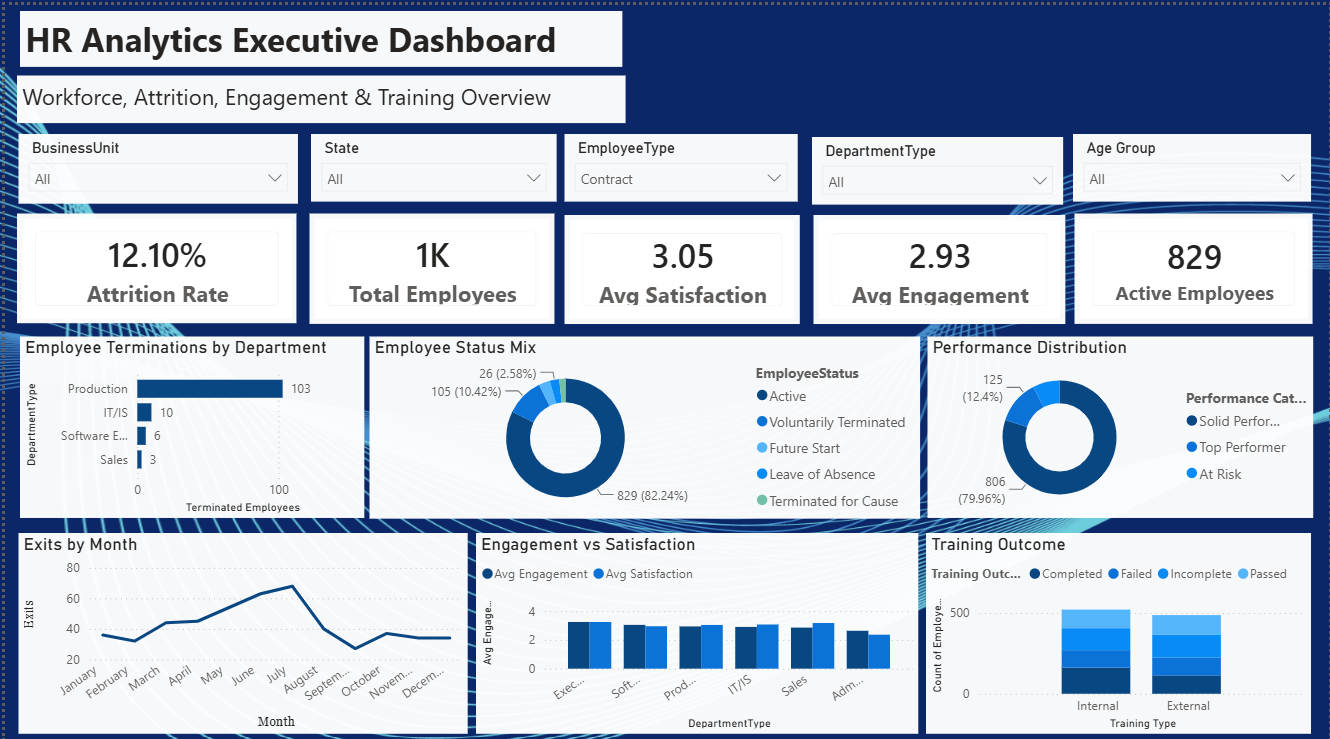

The page's visual inventory and layout, read from the dashboard file:
{"tool":"powerbi","page":{"name":"Page 1","canvas":[1280,720],"ordinal":0},"visuals":[{"type":"cardVisual","fields":{"Data":["HR_Cleaned.Attrition Rate"]},"box":[12,202,270,106],"z":0},{"type":"cardVisual","fields":{"Data":["HR_Cleaned.Total Employees"]},"box":[294.2,201.7,236.7,106.7],"z":1000},{"type":"cardVisual","fields":{"Data":["HR_Cleaned.Avg Satisfaction"]},"box":[540,202.5,227.5,105],"z":2000},{"type":"cardVisual","fields":{"Data":["HR_Cleaned.Avg Engagement"]},"box":[780.8,202.5,243.3,105],"z":3000},{"type":"cardVisual","fields":{"Data":["HR_Cleaned.Active Employees"]},"box":[1033.3,201.7,230,106.7],"z":4000},{"type":"textbox","box":[14,6,582,54],"z":5000},{"type":"textbox","box":[12,68,588,46],"z":6000},{"type":"clusteredBarChart","title":"Employee Terminations by Department","fields":{"Category":["HR_Cleaned.DepartmentType"],"Y":["HR_Cleaned.Terminated Employees"]},"box":[13.8,320.8,332.5,175],"z":7000},{"type":"donutChart","title":"Employee Status Mix","fields":{"Category":["HR_Cleaned.EmployeeStatus"],"Y":["CountNonNull(HR_Cleaned.Employee ID)"]},"box":[352,320,532,176],"z":8000},{"type":"donutChart","title":"Performance Distribution","fields":{"Category":["HR_Cleaned.Performance Category"],"Y":["CountNonNull(HR_Cleaned.Employee ID)"]},"box":[891.3,320.8,372.5,175],"z":9000},{"type":"lineChart","fields":{"Category":["HR_Cleaned.ExitDate.Variation.Date Hierarchy.Year","HR_Cleaned.ExitDate.Variation.Date Hierarchy.Quarter","HR_Cleaned.ExitDate.Variation.Date Hierarchy.Month","HR_Cleaned.ExitDate.Variation.Date Hierarchy.Day"],"Y":["HR_Cleaned.Exits"]},"box":[12.5,510,433.8,193.8],"z":10000},{"type":"clusteredColumnChart","title":"Engagement vs Satisfaction","fields":{"Category":["HR_Cleaned.DepartmentType"],"Y":["HR_Cleaned.Avg Engagement","HR_Cleaned.Avg Satisfaction"]},"box":[455,510,427.5,193.8],"z":11000},{"type":"columnChart","title":"Training Outcome","fields":{"Category":["HR_Cleaned.Training Type"],"Y":["CountNonNull(HR_Cleaned.EmployeeType)"],"Series":["HR_Cleaned.Training Outcome"]},"box":[890,510,372,194],"z":12000},{"type":"slicer","fields":{"Values":["HR_Cleaned.State"]},"box":[295,125,237.5,65],"z":13000},{"type":"slicer","fields":{"Values":["HR_Cleaned.EmployeeType"]},"box":[540,125,225,65],"z":14000},{"type":"slicer","fields":{"Values":["HR_Cleaned.DepartmentType"]},"box":[780,127.5,242.5,65],"z":15000},{"type":"slicer","fields":{"Values":["HR_Cleaned.Age Group"]},"box":[1032.5,125,230,65],"z":16000},{"type":"slicer","fields":{"Values":["HR_Cleaned.BusinessUnit"]},"box":[12.5,125,270,67.5],"z":17000}]}

Visuals, with their boxes in screenshot pixels (x1, y1, x2, y2), scaled from the page's 1280x720 canvas onto the 1330x739 screenshot:
cardVisual - HR_Cleaned.Attrition Rate: (left=12, top=207, right=293, bottom=316)
cardVisual - HR_Cleaned.Total Employees: (left=306, top=207, right=552, bottom=317)
cardVisual - HR_Cleaned.Avg Satisfaction: (left=561, top=208, right=797, bottom=316)
cardVisual - HR_Cleaned.Avg Engagement: (left=811, top=208, right=1064, bottom=316)
cardVisual - HR_Cleaned.Active Employees: (left=1074, top=207, right=1313, bottom=317)
textbox: (left=15, top=6, right=619, bottom=62)
textbox: (left=12, top=70, right=623, bottom=117)
"Employee Terminations by Department" clusteredBarChart: (left=14, top=329, right=360, bottom=509)
"Employee Status Mix" donutChart: (left=366, top=328, right=919, bottom=509)
"Performance Distribution" donutChart: (left=926, top=329, right=1313, bottom=509)
lineChart - HR_Cleaned.ExitDate.Variation.Date Hierarchy.Year x HR_Cleaned.ExitDate.Variation.Date Hierarchy.Quarter: (left=13, top=523, right=464, bottom=722)
"Engagement vs Satisfaction" clusteredColumnChart: (left=473, top=523, right=917, bottom=722)
"Training Outcome" columnChart: (left=925, top=523, right=1311, bottom=723)
slicer - HR_Cleaned.State: (left=307, top=128, right=553, bottom=195)
slicer - HR_Cleaned.EmployeeType: (left=561, top=128, right=795, bottom=195)
slicer - HR_Cleaned.DepartmentType: (left=810, top=131, right=1062, bottom=198)
slicer - HR_Cleaned.Age Group: (left=1073, top=128, right=1312, bottom=195)
slicer - HR_Cleaned.BusinessUnit: (left=13, top=128, right=294, bottom=198)
